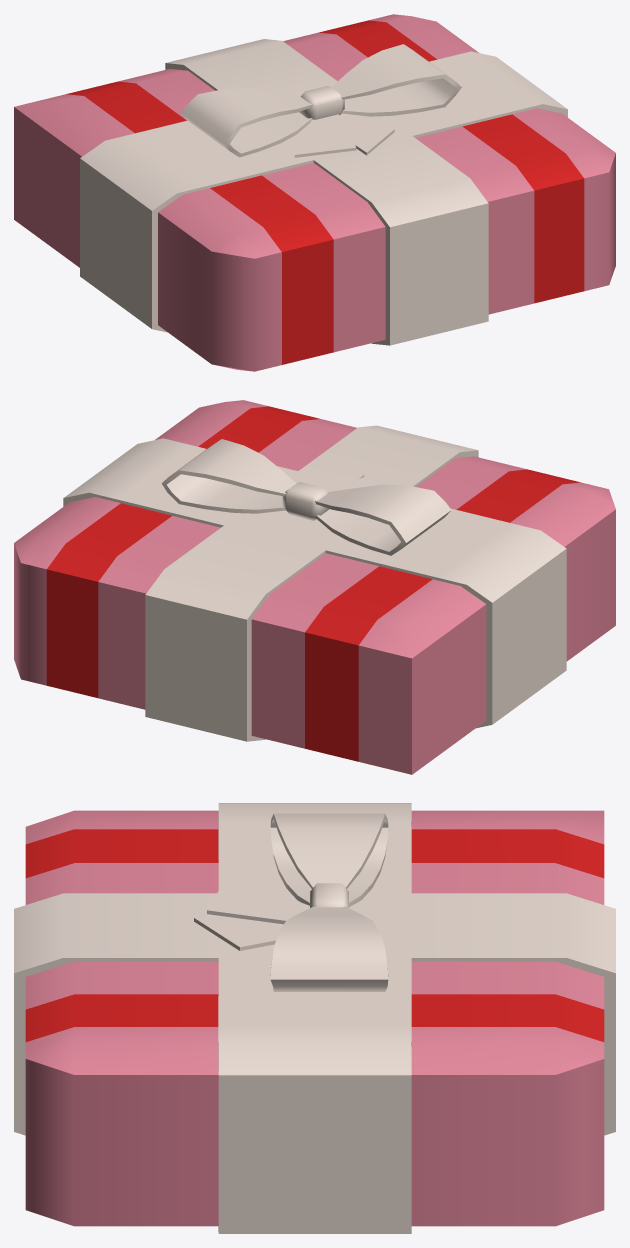
Rendered from Gift_34_231109.glb.
The picture shows the model from 3 angles, top to bottom: view 1: azimuth 30°, elevation 25°; view 2: azimuth 150°, elevation 25°; view 3: azimuth 270°, elevation 25°; orthographic projection. The views are drawn at different scales.
Visible parts, largest first — view 1: Gift_34; view 2: Gift_34; view 3: Gift_34.
Part boxes in pixels (box(x1,y1,x2,y2)): Gift_34: box(14, 14, 615, 371); Gift_34: box(14, 400, 615, 774); Gift_34: box(14, 803, 615, 1233).
Bounding box in the file's own units: 0.7127 × 0.2869 × 0.666.
1 material, 1 textured.
